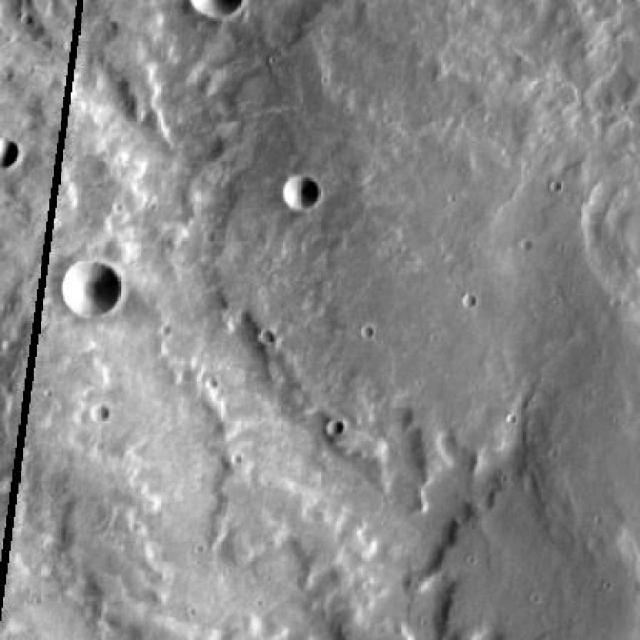crater: (62, 259, 120, 318), (284, 173, 322, 210), (192, 0, 241, 18), (90, 405, 112, 426), (327, 416, 344, 433), (631, 251, 640, 269)
